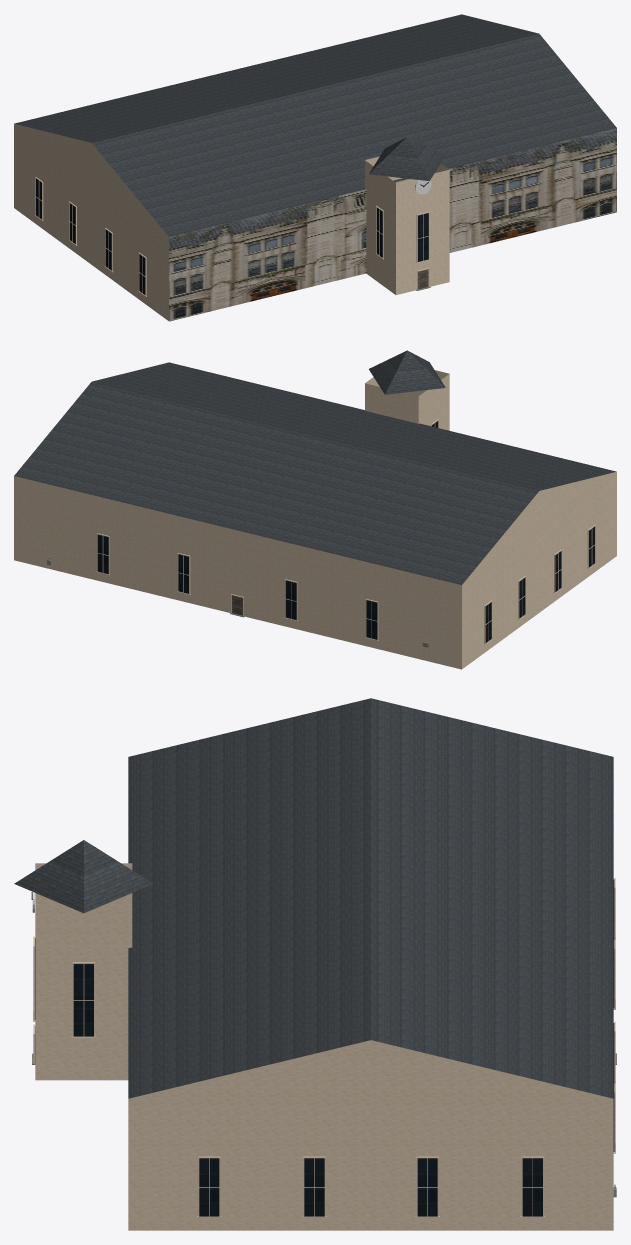
File: university-hall_lod0.gltf
3 views of the same model, one above another, from view 1: azimuth 30°, elevation 25°; view 2: azimuth 150°, elevation 25°; view 3: azimuth 270°, elevation 25° (orthographic). The views are drawn at different scales.
Parts seen in each view (by area): view 1: university-hall_roof, university-hall_front, university-hall_nave, university-hall_tower, university-hall_gable_ends, university-hall_spire, university-hall_fen_07-glass-curtain-blue_1_t, university-hall_fen_04-limestone_0; view 2: university-hall_roof, university-hall_nave, university-hall_gable_ends, university-hall_tower, university-hall_fen_07-glass-curtain-blue_1_t, university-hall_spire, university-hall_fen_04-limestone_0; view 3: university-hall_roof, university-hall_nave, university-hall_tower, university-hall_gable_ends, university-hall_fen_07-glass-curtain-blue_1_t, university-hall_spire, university-hall_fen_04-limestone_0.
Part boxes in pixels (x1,y1,x2,y2): university-hall_roof: (14, 14, 616, 236); university-hall_front: (169, 128, 616, 321); university-hall_nave: (14, 124, 168, 320); university-hall_tower: (365, 156, 449, 294); university-hall_gable_ends: (15, 124, 168, 236); university-hall_spire: (369, 137, 445, 181); university-hall_fen_07-glass-curtain-blue_1_t: (36, 178, 428, 294); university-hall_fen_04-limestone_0: (34, 177, 430, 296); university-hall_roof: (14, 362, 616, 584); university-hall_nave: (14, 472, 616, 669); university-hall_gable_ends: (462, 472, 615, 584); university-hall_tower: (365, 370, 449, 430); university-hall_fen_07-glass-curtain-blue_1_t: (97, 421, 594, 642); university-hall_spire: (369, 350, 445, 394); university-hall_fen_04-limestone_0: (96, 419, 596, 644); university-hall_roof: (128, 698, 613, 1098); university-hall_nave: (128, 1098, 613, 1230); university-hall_tower: (35, 863, 132, 1080); university-hall_gable_ends: (130, 1040, 612, 1098); university-hall_fen_07-glass-curtain-blue_1_t: (35, 879, 614, 1216); university-hall_spire: (14, 840, 153, 913); university-hall_fen_04-limestone_0: (33, 878, 615, 1217).
Size of the model in its own units: 101 by 30 by 74.54.
